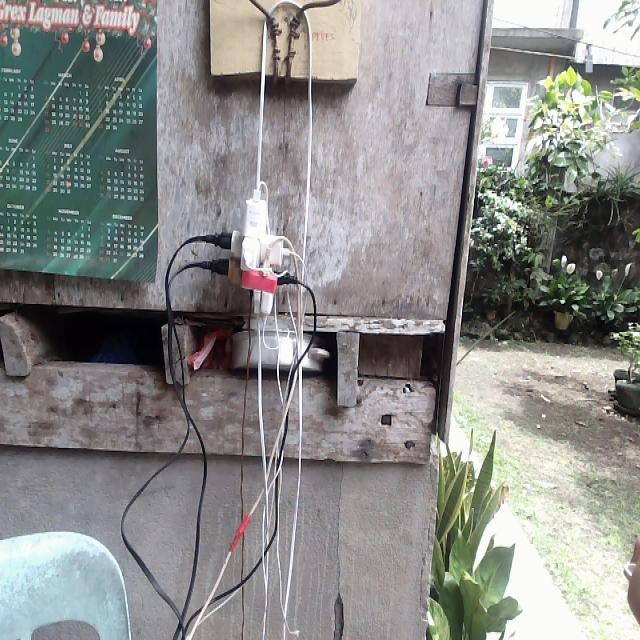-: (210, 184, 304, 321)
